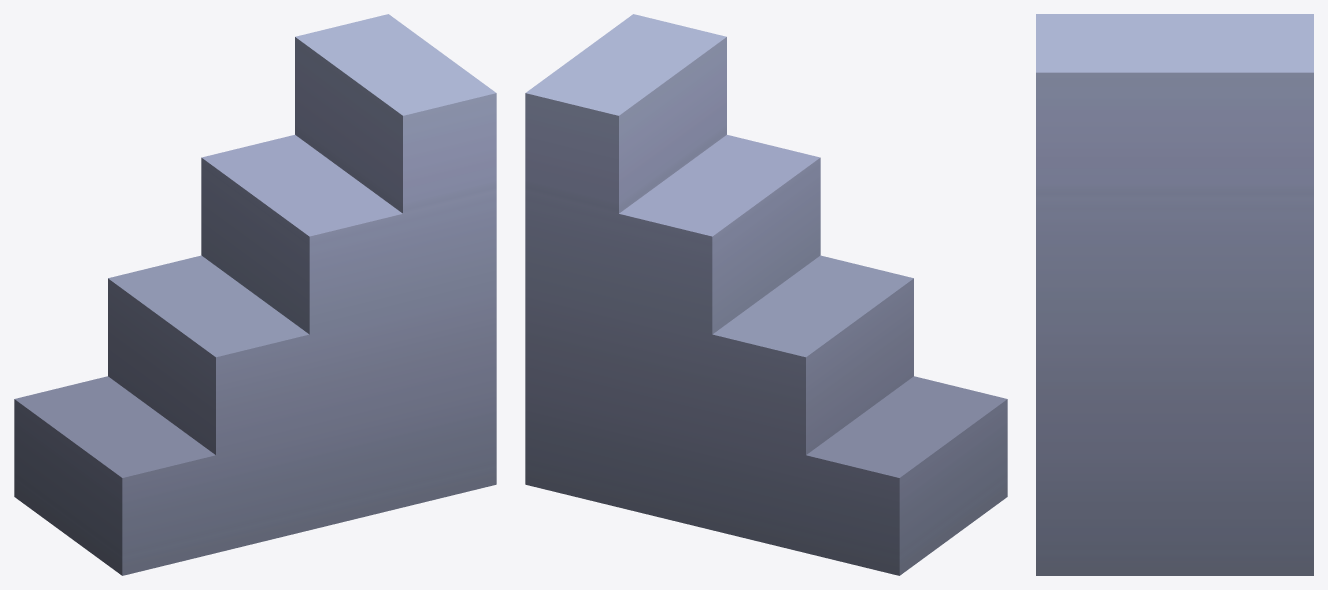
File: kenney-prototype-stairs-narrow.glb
The picture shows the model from 3 angles, left to right: view 1: azimuth 30°, elevation 25°; view 2: azimuth 150°, elevation 25°; view 3: azimuth 270°, elevation 25°; orthographic projection. The views are drawn at different scales.
Parts seen in each view (by area): view 1: stairs-narrow; view 2: stairs-narrow; view 3: stairs-narrow.
Part boxes in pixels (x1,y1,x2,y2): stairs-narrow: (14, 14, 496, 575); stairs-narrow: (525, 14, 1007, 575); stairs-narrow: (1036, 14, 1313, 575).
Bounding box in the file's own units: 1 × 1 × 0.5001.
Materials: 1 (1 with a texture image).
